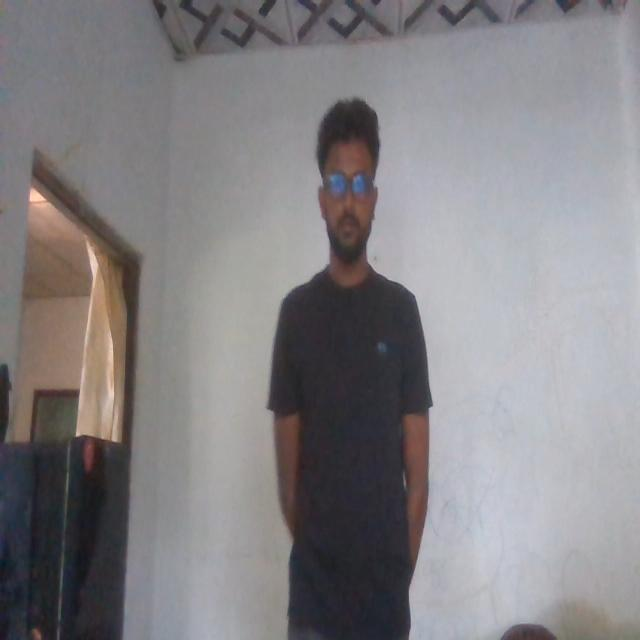Person: (268, 93, 430, 640)
